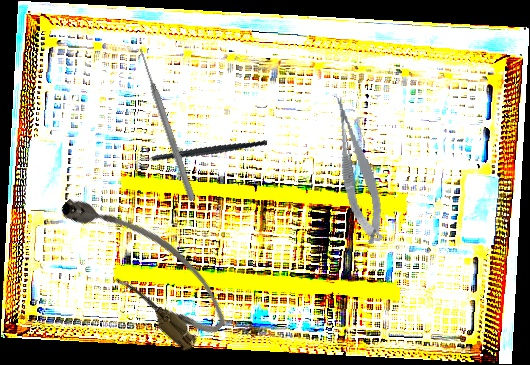Cannula: (49, 170, 239, 359)
Chopper: (129, 113, 268, 197)
Micro Scissor: (329, 91, 388, 248)
Pusher: (135, 46, 198, 202)
